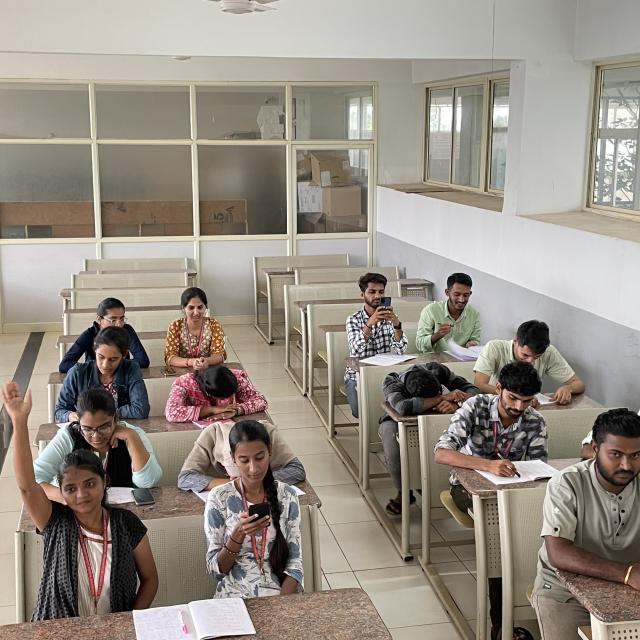Hand Rising: (0, 390, 142, 594)
Reading: (39, 392, 152, 503), (481, 315, 586, 404)
Sleeping: (165, 361, 267, 422), (384, 358, 482, 414)
Using Phone: (200, 422, 298, 556), (346, 269, 413, 352)
Writing: (444, 367, 553, 492), (409, 263, 493, 354)
